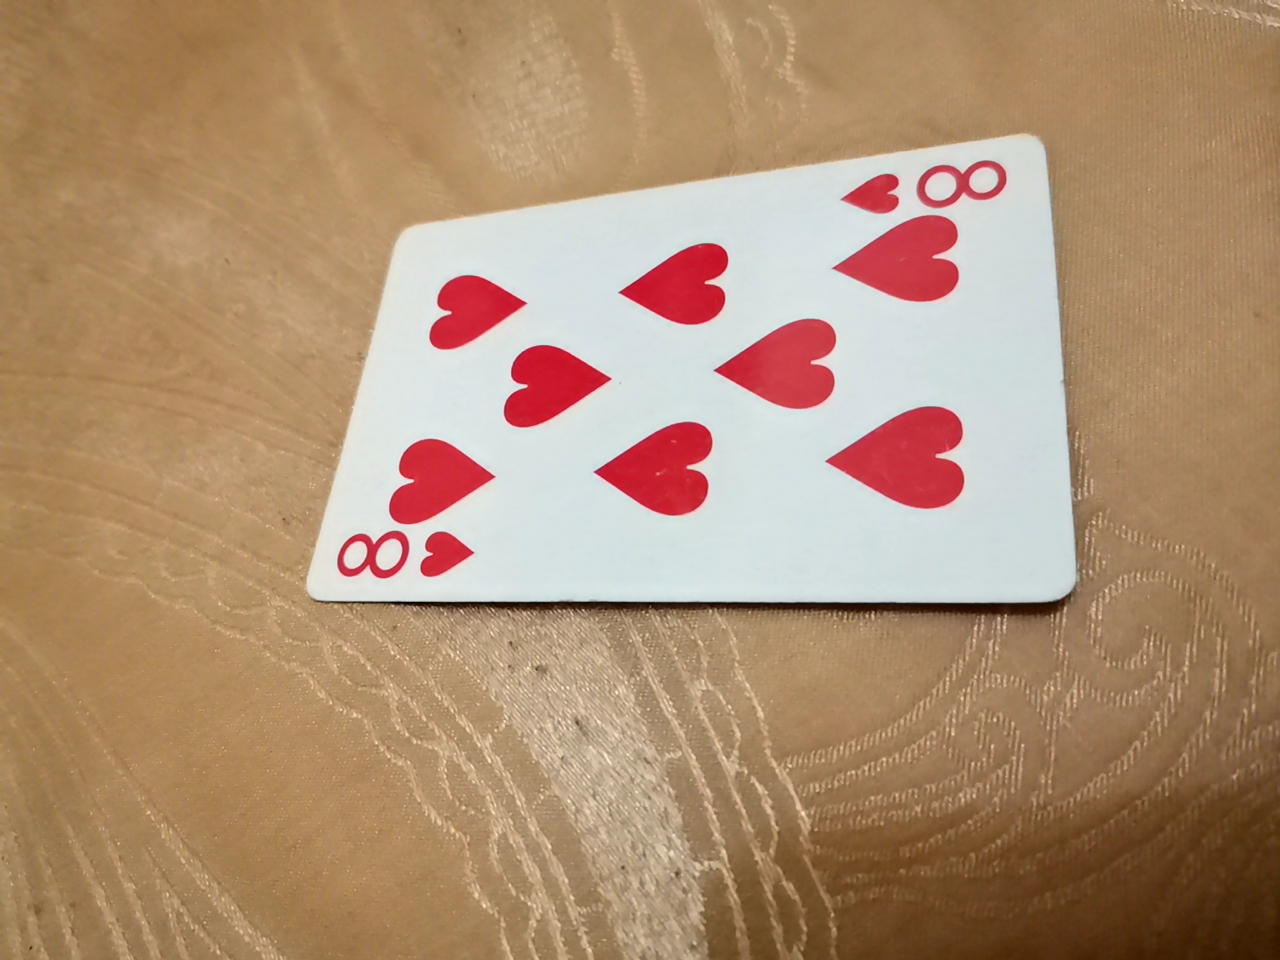hx 8: (305, 151, 1074, 610)
